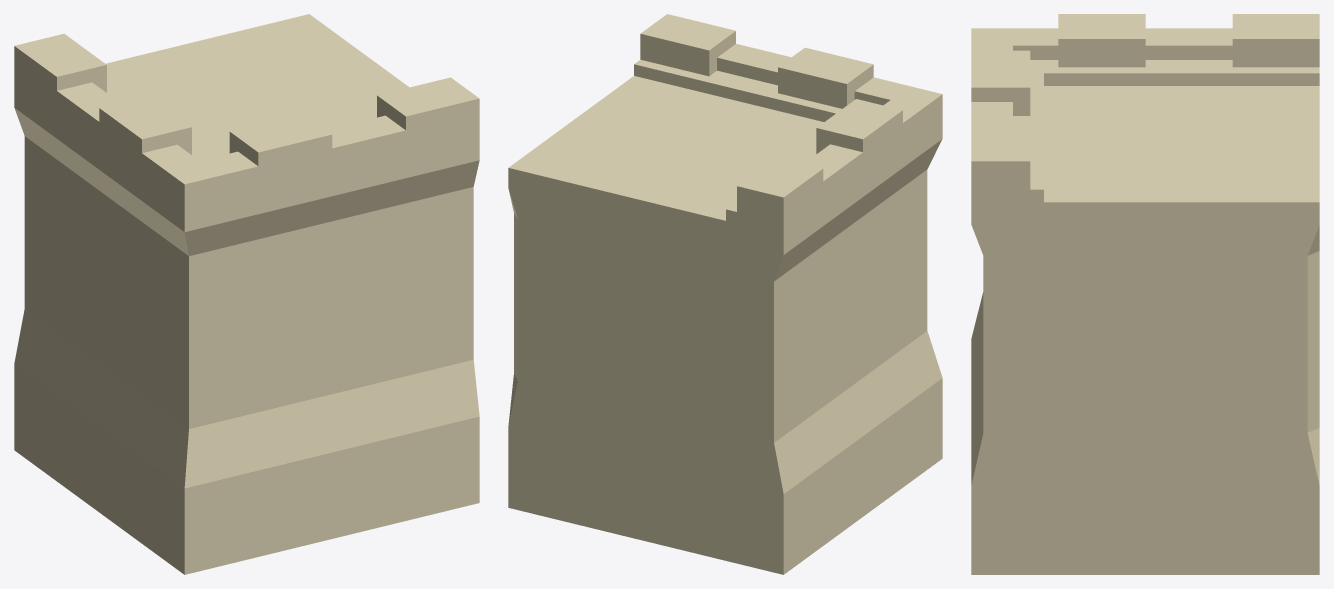
The model's file is wallcornerhalf.glb.
The picture shows the model from 3 angles, left to right: view 1: azimuth 30°, elevation 25°; view 2: azimuth 150°, elevation 25°; view 3: azimuth 270°, elevation 25°; orthographic projection. The views are drawn at different scales.
Visible parts, largest first — view 1: wallCornerHalf; view 2: wallCornerHalf; view 3: wallCornerHalf.
Part boxes in pixels (x1,y1,x2,y2): wallCornerHalf: (14,14,479,574); wallCornerHalf: (508,14,942,574); wallCornerHalf: (971,14,1319,574).
Bounding box in the file's own units: 10 × 13.1 × 10.
